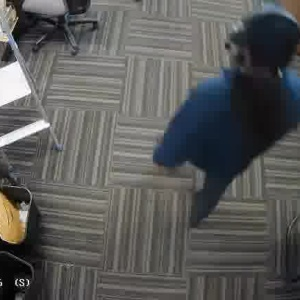person: (160, 8, 300, 215)
